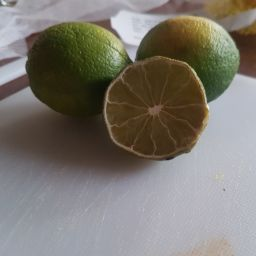Lemon: (12, 10, 243, 168), (101, 53, 218, 160), (16, 19, 132, 118), (129, 16, 242, 105)
